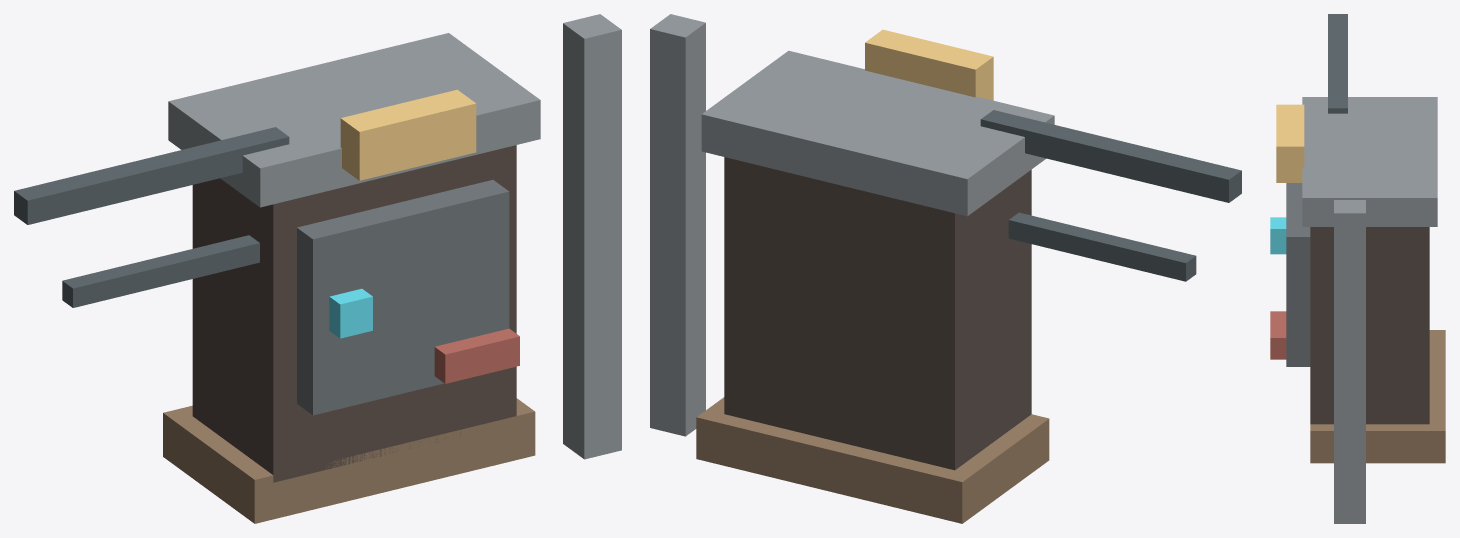
The model's file is cantina_utility_box_v1.glb.
The picture shows the model from 3 angles, left to right: view 1: azimuth 30°, elevation 25°; view 2: azimuth 150°, elevation 25°; view 3: azimuth 270°, elevation 25°; orthographic projection. The views are drawn at different scales.
Parts seen in each view (by area): view 1: main_box, front_plate, top_cap, right_conduit, bottom_shadow_foot, left_wire_upper, amber_lamp, left_wire_lower, red_warning_tag, cyan_status_dot; view 2: main_box, top_cap, right_conduit, bottom_shadow_foot, left_wire_upper, amber_lamp, left_wire_lower; view 3: main_box, top_cap, right_conduit, bottom_shadow_foot, front_plate, amber_lamp, left_wire_upper, red_warning_tag, cyan_status_dot.
Boxes of the visible parts, x1,y1,x2,y2 form: main_box: [192, 145, 516, 482]; front_plate: [297, 180, 509, 415]; top_cap: [168, 33, 540, 207]; right_conduit: [563, 14, 621, 459]; bottom_shadow_foot: [163, 398, 535, 523]; left_wire_upper: [14, 127, 289, 224]; amber_lamp: [340, 89, 476, 180]; left_wire_lower: [62, 235, 259, 307]; red_warning_tag: [434, 328, 519, 383]; cyan_status_dot: [329, 288, 372, 338]; main_box: [724, 157, 1031, 470]; top_cap: [701, 50, 1054, 216]; right_conduit: [650, 14, 705, 436]; bottom_shadow_foot: [696, 397, 1049, 523]; left_wire_upper: [980, 110, 1241, 202]; amber_lamp: [865, 29, 993, 100]; left_wire_lower: [1008, 212, 1196, 281]; main_box: [1310, 227, 1429, 424]; top_cap: [1302, 97, 1437, 226]; right_conduit: [1334, 200, 1365, 523]; bottom_shadow_foot: [1310, 330, 1445, 463]; front_plate: [1286, 183, 1310, 366]; amber_lamp: [1276, 104, 1304, 182]; left_wire_upper: [1328, 14, 1347, 113]; red_warning_tag: [1270, 311, 1286, 359]; cyan_status_dot: [1270, 217, 1286, 254].
Size of the model in its own units: 1.28 by 0.86 by 0.44.
